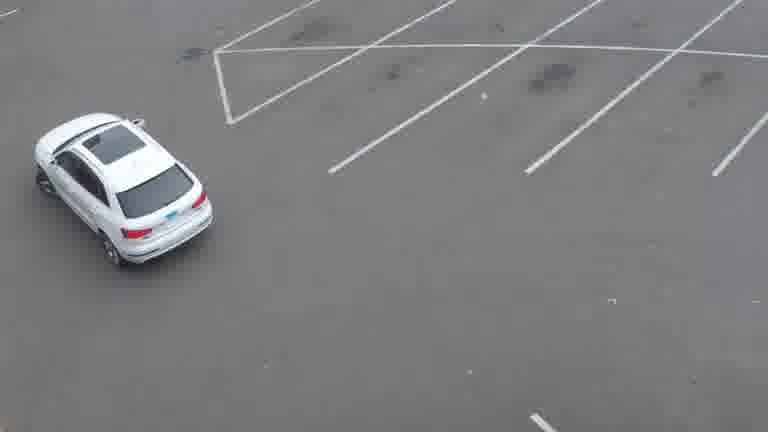person: (27, 112, 219, 272)
